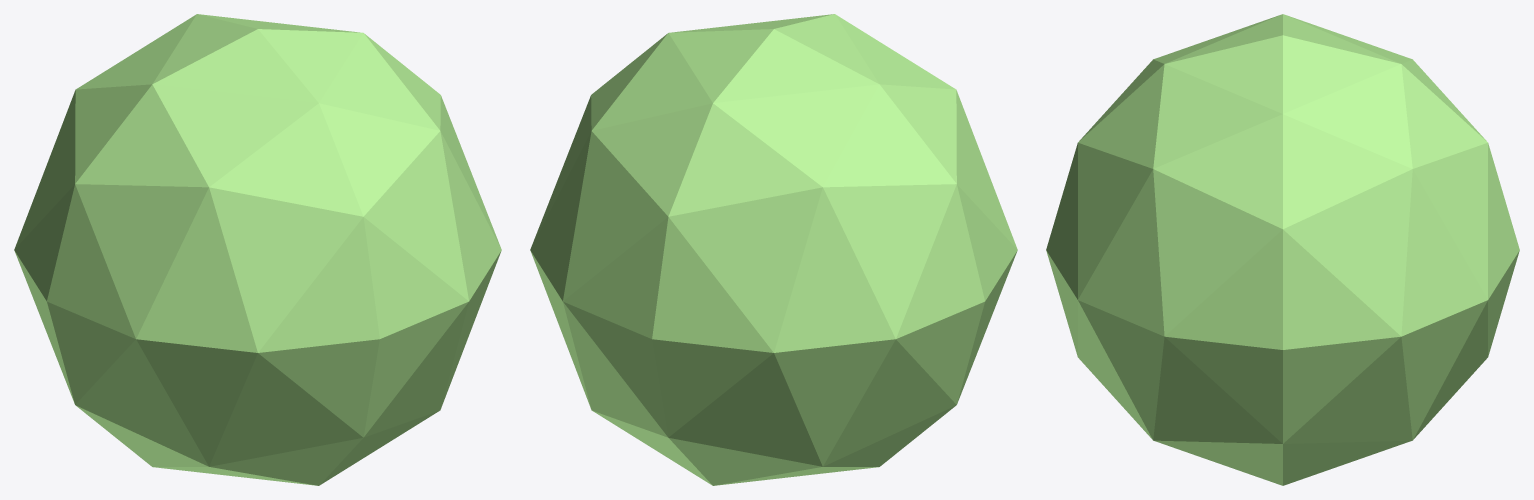
The model's file is planet3.fbx.
3 renders of one model, left to right at view 1: azimuth 30°, elevation 25°; view 2: azimuth 150°, elevation 25°; view 3: azimuth 270°, elevation 25°, orthographic. The views are drawn at different scales.
Visible parts, largest first — view 1: GeoSphere002.001; view 2: GeoSphere002.001; view 3: GeoSphere002.001.
Part boxes in pixels (x1=…): GeoSphere002.001: x1=14, y1=14, x2=501, y2=485; GeoSphere002.001: x1=530, y1=14, x2=1017, y2=485; GeoSphere002.001: x1=1046, y1=14, x2=1519, y2=485.
Bounding box in the file's own units: 589 × 589 × 589.
